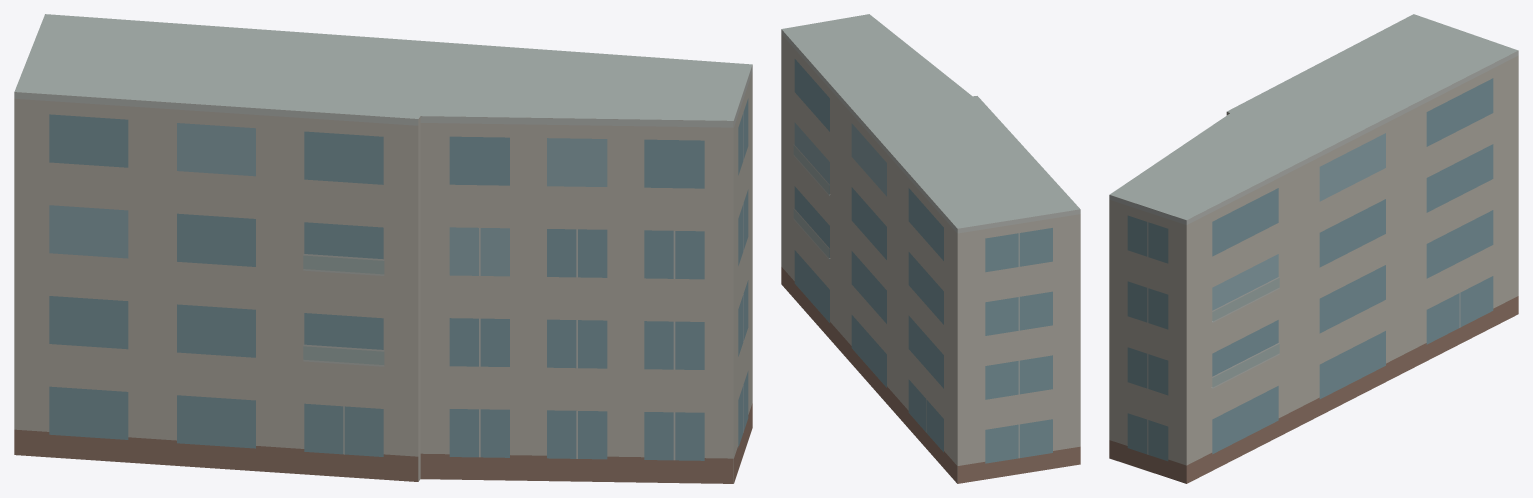
File: survey-upis-32659953.glb
3 renders of one model, left to right at view 1: azimuth 30°, elevation 25°; view 2: azimuth 150°, elevation 25°; view 3: azimuth 270°, elevation 25°, orthographic. The views are drawn at different scales.
Parts seen in each view (by area): view 1: survey-upis-32659953.tmp; view 2: survey-upis-32659953.tmp; view 3: survey-upis-32659953.tmp.
Part boxes in pixels (x1=…): survey-upis-32659953.tmp: x1=14, y1=14, x2=752, y2=483; survey-upis-32659953.tmp: x1=781, y1=14, x2=1080, y2=483; survey-upis-32659953.tmp: x1=1109, y1=14, x2=1518, y2=483.
Size of the model in its own units: 21.9 by 13.05 by 18.36.
